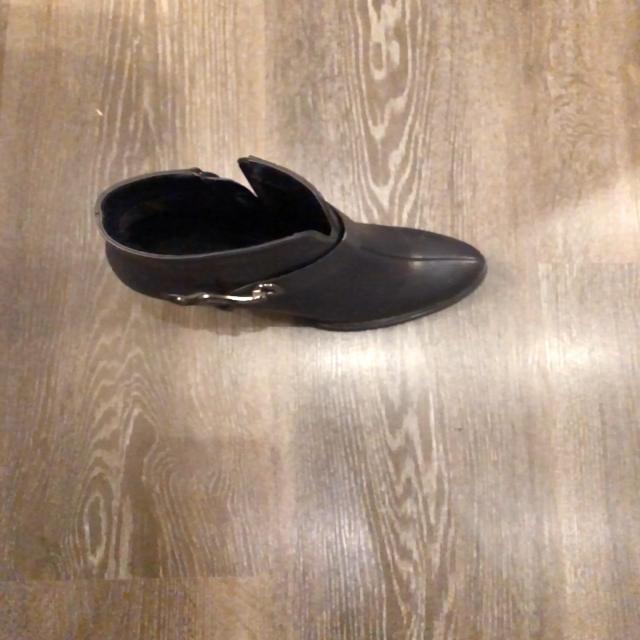shoe: (95, 157, 488, 335)
